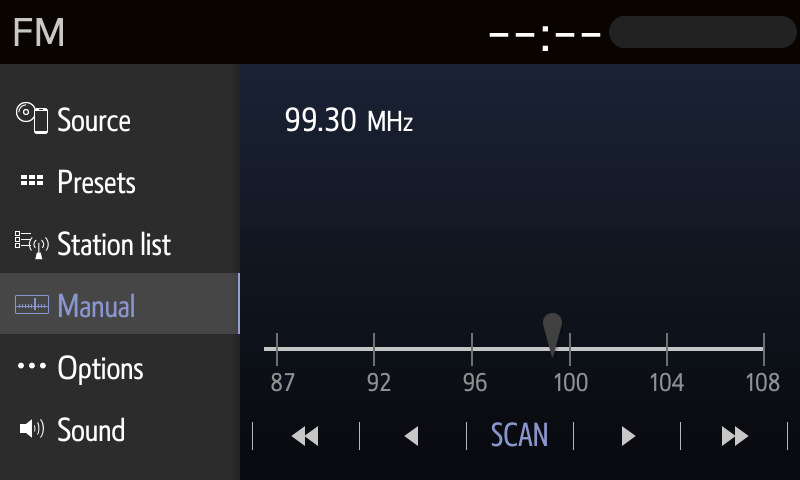touchPart: (11, 224, 174, 263), (12, 95, 133, 141), (4, 353, 152, 385), (16, 163, 136, 198), (3, 414, 135, 445), (278, 416, 330, 454), (713, 419, 752, 449), (395, 421, 426, 451), (612, 422, 640, 448)
untouchPart: (257, 310, 785, 397), (613, 13, 798, 50), (466, 9, 606, 57), (10, 285, 140, 323), (280, 101, 418, 135), (10, 9, 65, 49)
